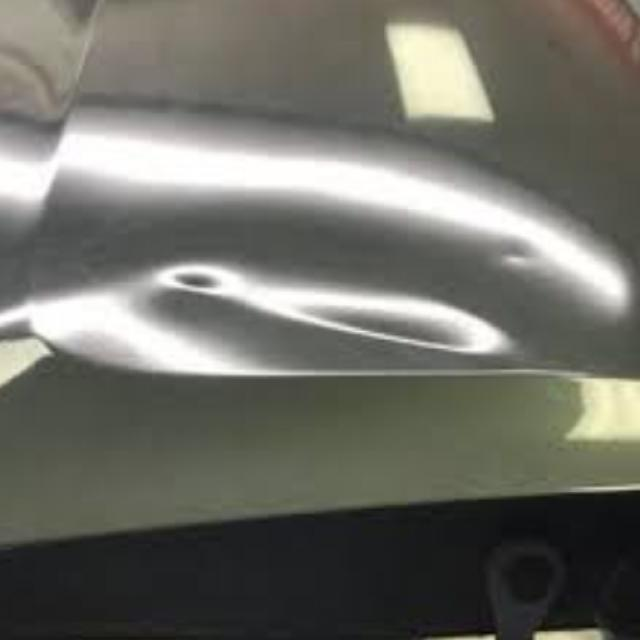dents: (297, 300, 498, 358), (476, 226, 548, 278), (156, 257, 226, 297)
